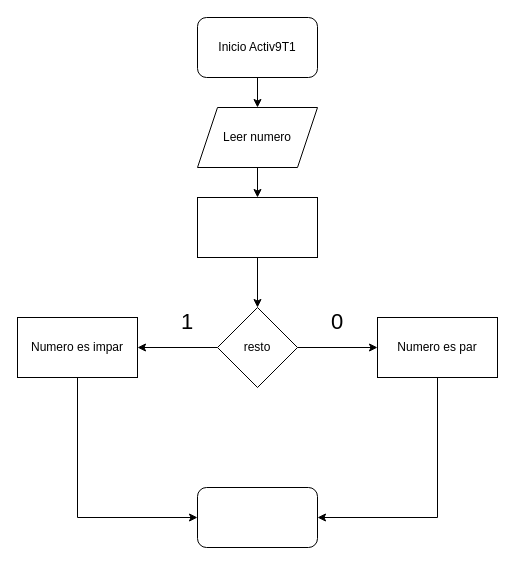
Some shapes in this 515 by 565 pixel diagram are drawn without their labels. The shapes that lost their labels are listed below. From the top down, each one's centre as x and y in pixels, then its label:
the point at 257,227: resto = numero % 2
the point at 257,517: fin Activ9T1
